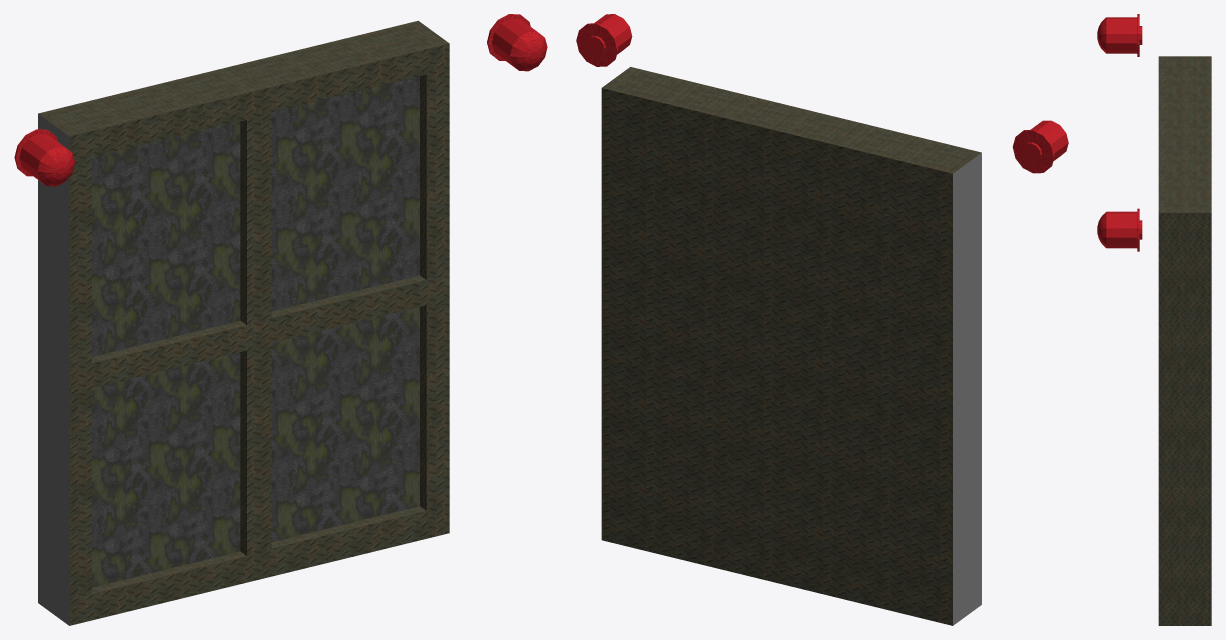
File: bunker door.fbx
3 views of the same model, side by side, from view 1: azimuth 30°, elevation 25°; view 2: azimuth 150°, elevation 25°; view 3: azimuth 270°, elevation 25° (orthographic). The views are drawn at different scales.
Parts seen in each view (by area): view 1: Box001, Cylinder.001, Cylinder; view 2: Box001, Cylinder.001, Cylinder; view 3: Box001, Cylinder, Cylinder.001.
Boxes of the visible parts, left/top/right/bottom form: Box001: left=38, top=20, right=449, bottom=625; Cylinder.001: left=14, top=129, right=74, bottom=186; Cylinder: left=487, top=14, right=547, bottom=71; Box001: left=601, top=67, right=981, bottom=625; Cylinder.001: left=1012, top=120, right=1068, bottom=173; Cylinder: left=576, top=14, right=632, bottom=66; Box001: left=1158, top=56, right=1211, bottom=625; Cylinder: left=1097, top=208, right=1142, bottom=251; Cylinder.001: left=1097, top=14, right=1142, bottom=56.
Size of the model in its own units: 85.06 by 81.12 by 19.3.
Materials: 5 (4 with a texture image).
